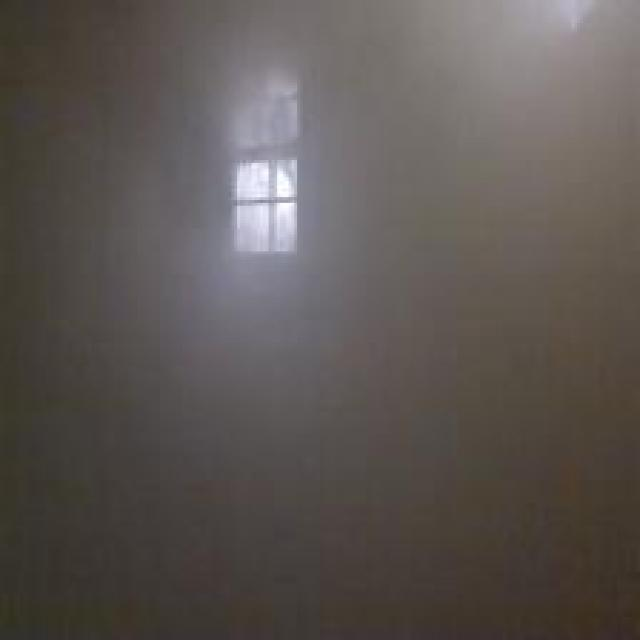other: (225, 153, 298, 240)
